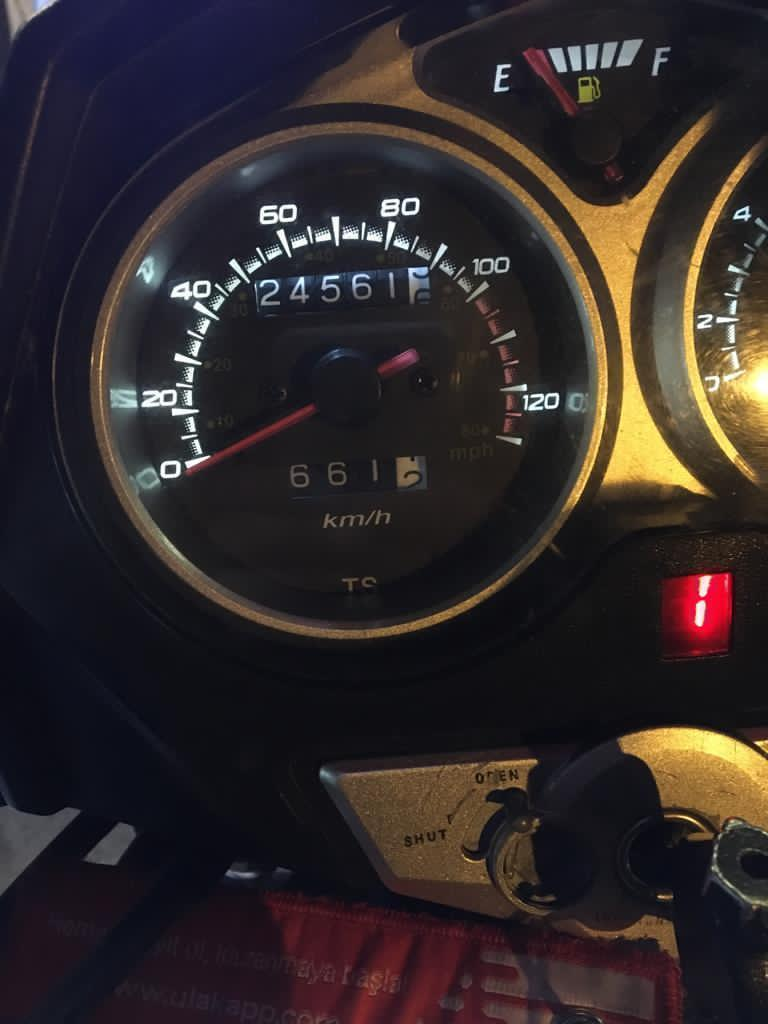1: (386, 270, 397, 300)
2: (258, 278, 281, 306)
4: (288, 276, 310, 304)
5: (319, 275, 342, 303)
6: (350, 273, 373, 301), (413, 286, 432, 306)
odometer: (252, 264, 433, 315)
